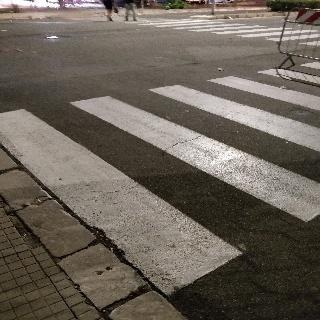road_crosswalk: (5, 75, 319, 278)
